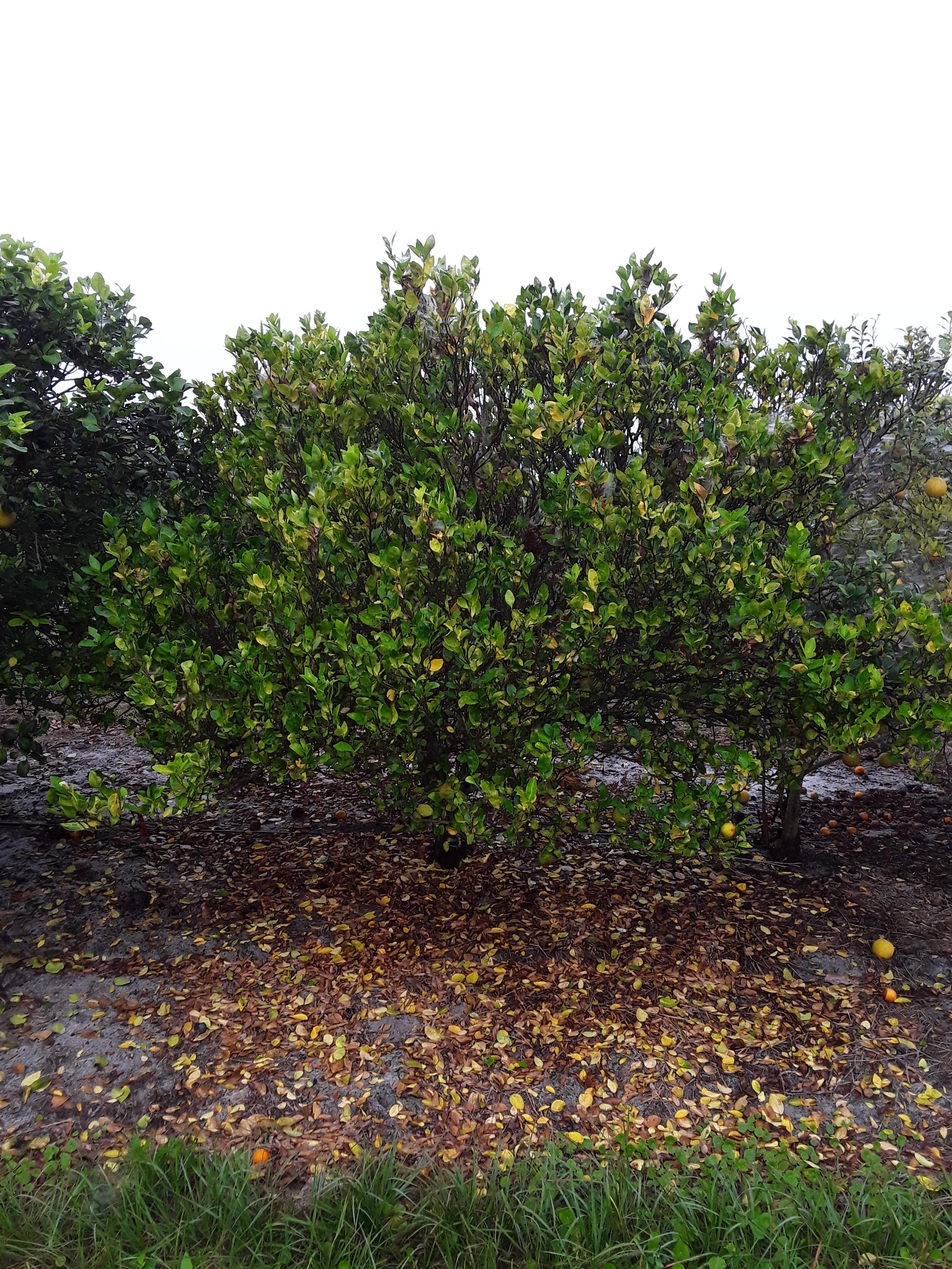fruit_on_ground: (923, 474, 950, 500), (608, 802, 634, 827), (0, 500, 18, 530), (841, 748, 863, 769), (717, 819, 739, 840), (536, 848, 556, 868), (877, 751, 895, 769), (735, 788, 751, 805), (892, 488, 906, 501)
fruit_on_tree: (870, 935, 897, 960), (248, 1143, 273, 1167), (882, 985, 899, 1003), (332, 808, 348, 823), (852, 764, 867, 777), (818, 825, 831, 836), (852, 789, 864, 800), (845, 824, 858, 834), (941, 813, 952, 824), (882, 810, 893, 821), (912, 811, 923, 822), (808, 790, 820, 800), (828, 818, 840, 828), (868, 819, 881, 828), (858, 811, 869, 821), (840, 800, 851, 808), (926, 818, 937, 825)
